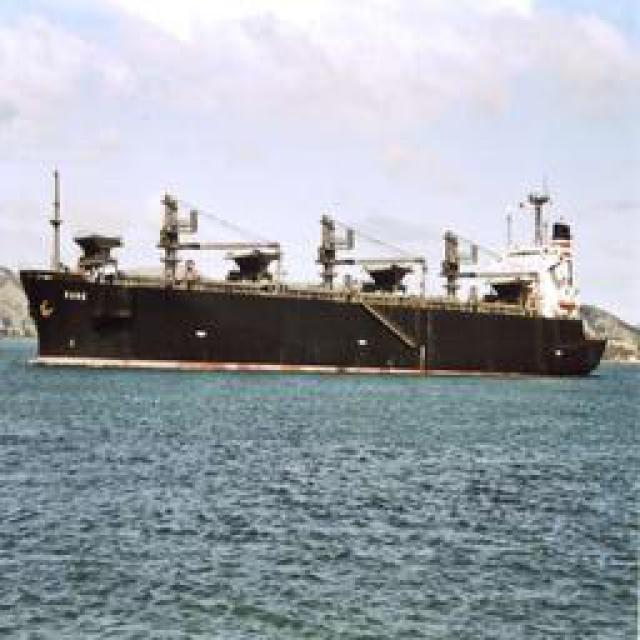Ship: (19, 162, 622, 380)
